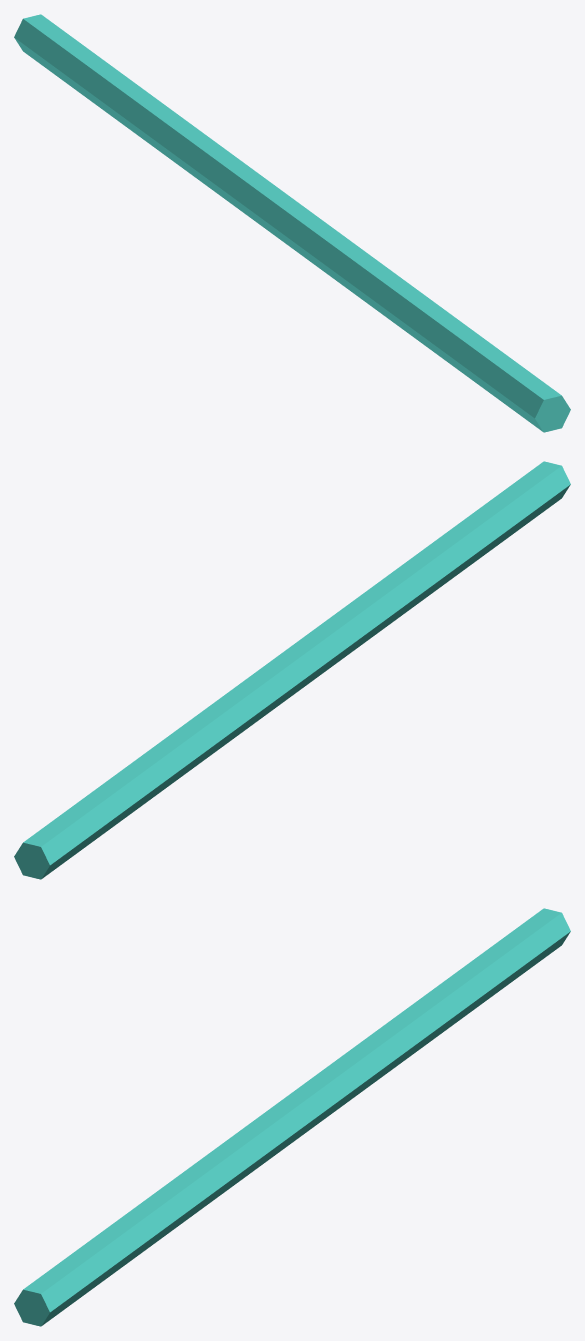
Rendered from filament-segment.glb.
3 renders of one model, top to bottom at view 1: azimuth 30°, elevation 25°; view 2: azimuth 150°, elevation 25°; view 3: azimuth 330°, elevation 25°, orthographic.
Visible parts, largest first — view 1: filament_segment; view 2: filament_segment; view 3: filament_segment.
Part boxes in pixels (x1,y1,x2,y2): filament_segment: (14,14,570,432); filament_segment: (14,461,570,879); filament_segment: (14,908,570,1326).
Size of the model in its own units: 0.04 by 0.0346 by 1.
